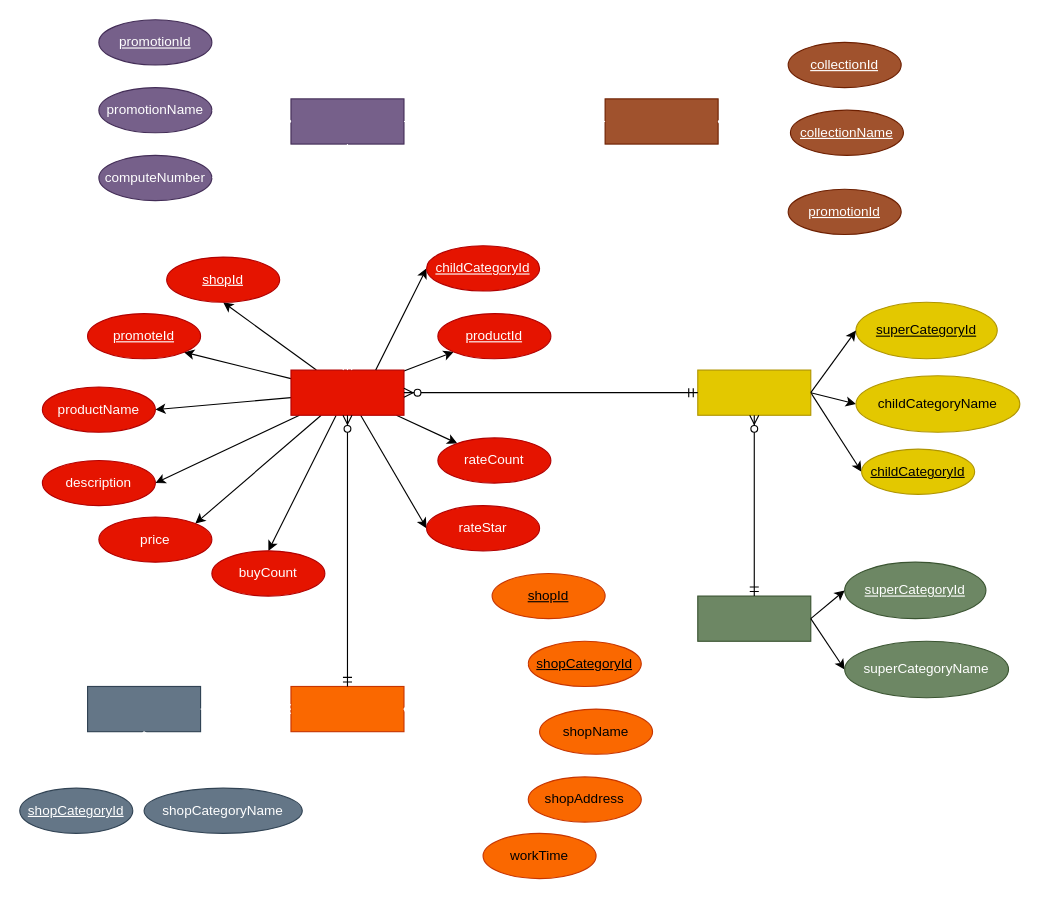
This 1040x898 diagram has some shape labels left out. Here are the shapes that lost their labels. From the top down, the box of each, then its label:
(290, 98, 404, 144): Promotions
(604, 98, 718, 144): Collections
(290, 369, 404, 415): Products
(697, 369, 811, 415): ChildCategories
(697, 595, 811, 641): SuperCategories
(86, 685, 201, 732): ShopCategories
(290, 685, 404, 732): Shops
